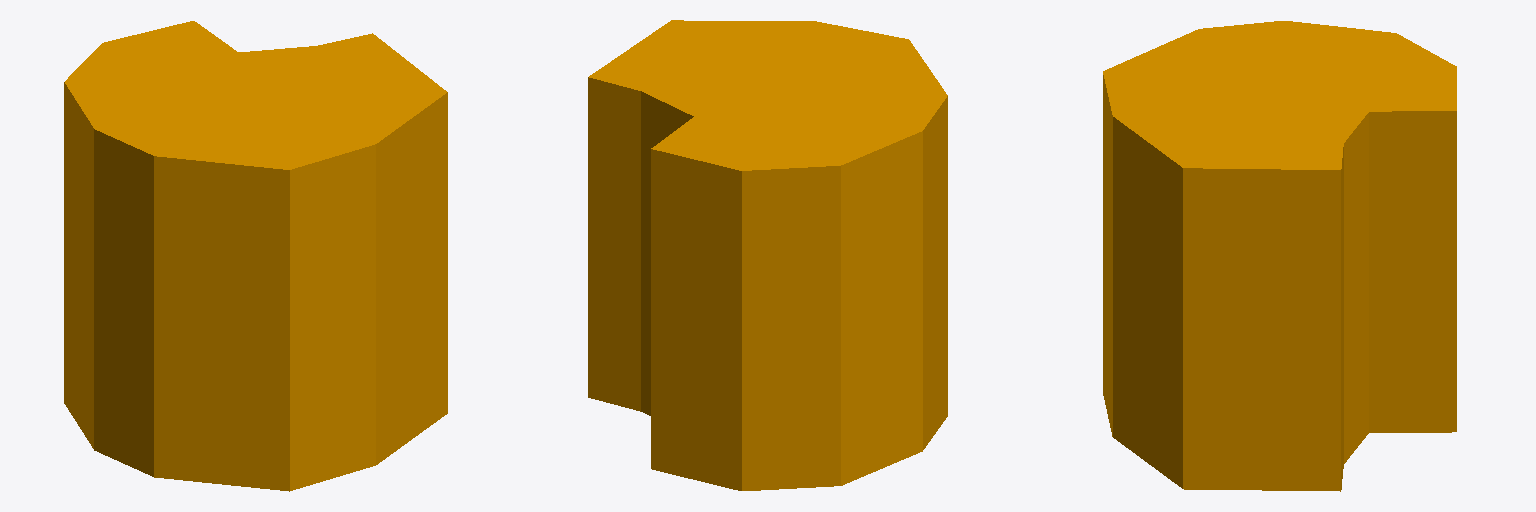
robot.urdf — object:
<?xml version="1.0"?>
<robot name="object">
  <link name="object">
    <visual>
      <origin xyz="0 0 0"/>
      <geometry>
        <mesh filename="meshes/polygon/poly_105_s.obj" scale=".03 .03 .03"/>
      </geometry>
    </visual>
    <collision>
  <origin xyz="0 0 0"/>
  <geometry>
    <mesh filename="meshes/polygon/poly_105_s_0decompose.obj" scale=".03 .03 .03"/>
<!--          <mesh filename="meshes/custom/obj0_ball.obj" scale=".05 .05 .05"/>-->
  </geometry>
</collision>

<!--    <collision>-->
<!--      <origin xyz="0 0 0"/>-->
<!--      <geometry>-->
<!--        <mesh filename="meshes/polygon/poly_105_s.obj" scale=".03 .03 .03"/>-->
<!--&lt;!&ndash;          <mesh filename="meshes/custom/obj0_ball.obj" scale=".05 .05 .05"/>&ndash;&gt;-->
<!--      </geometry>-->
<!--    </collision>-->
    <inertial>
      <density value="1000.0"/>
    </inertial>
  </link>
</robot>

--- Facts derived from the render (not from the file) ---
The picture shows the robot from 3 angles, left to right: view 1: azimuth 30°, elevation 25°; view 2: azimuth 150°, elevation 25°; view 3: azimuth 270°, elevation 25°; orthographic projection.
Model object with 1 links and 0 joints (none), rooted at object, posed every joint at zero.
Links seen in each view (by area): view 1: object; view 2: object; view 3: object.
Link boxes in pixels (<box>): object: <box>64,21,447,491</box>; object: <box>588,20,947,490</box>; object: <box>1103,21,1456,491</box>.
Bounding box of the posed robot: 0.06 × 0.06 × 0.06 m (x, y, z).
Meshes: 1 distinct files referenced, 1 mesh visuals loaded (1 OBJ).
